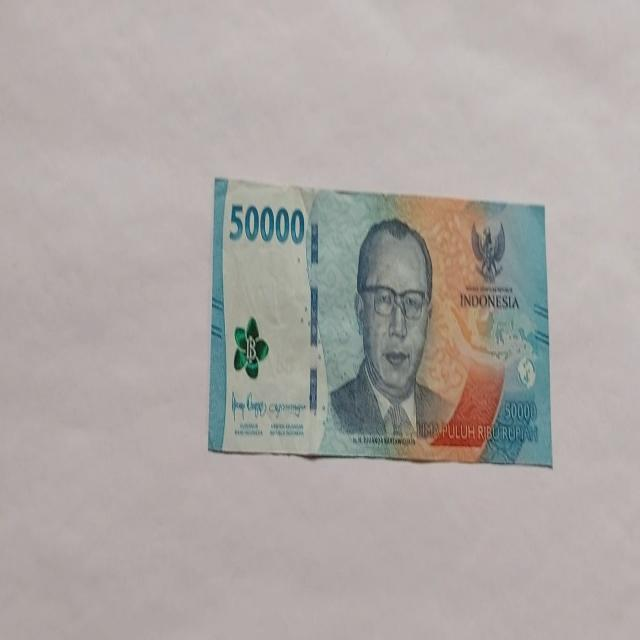lima puluh ribu rupiah: (207, 175, 553, 466), (326, 216, 454, 446)
